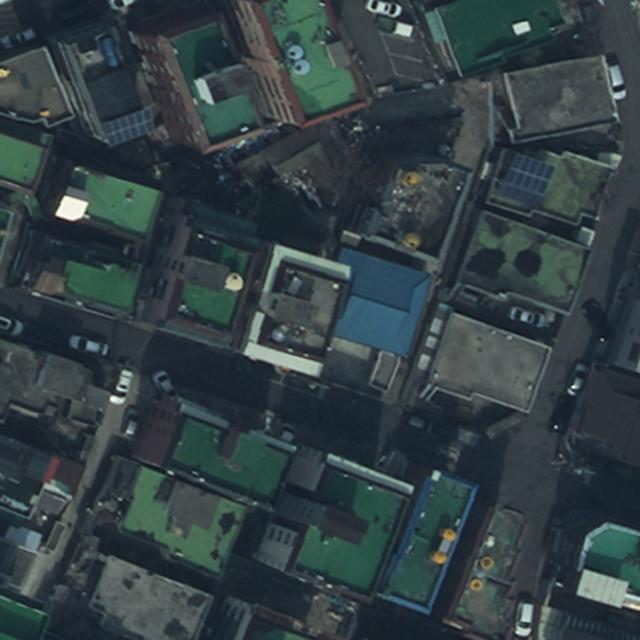panel: (494, 151, 557, 209), (100, 105, 156, 146)
